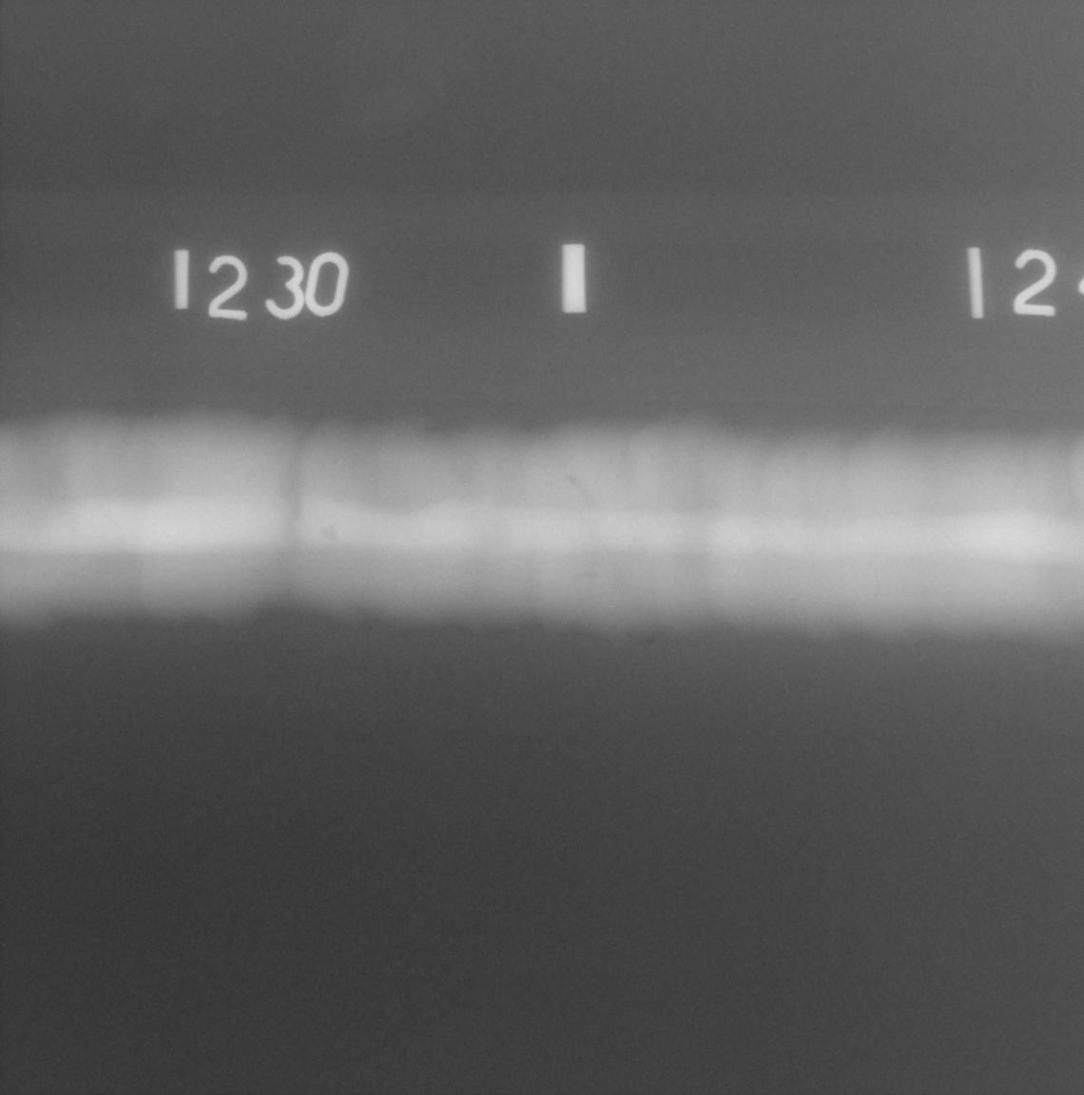Inclusion: (567, 476, 597, 509), (584, 574, 597, 578)
Pore/Porosity: (323, 528, 335, 540)
